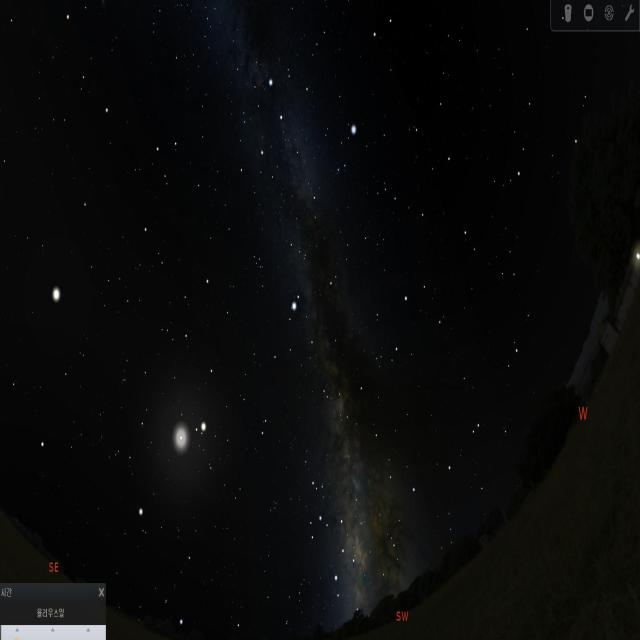aquila: (268, 284, 337, 409)
cygnus: (256, 72, 322, 224)
lyra: (328, 120, 360, 190)
moon: (164, 414, 194, 470)
sagittarius: (307, 498, 367, 598)
